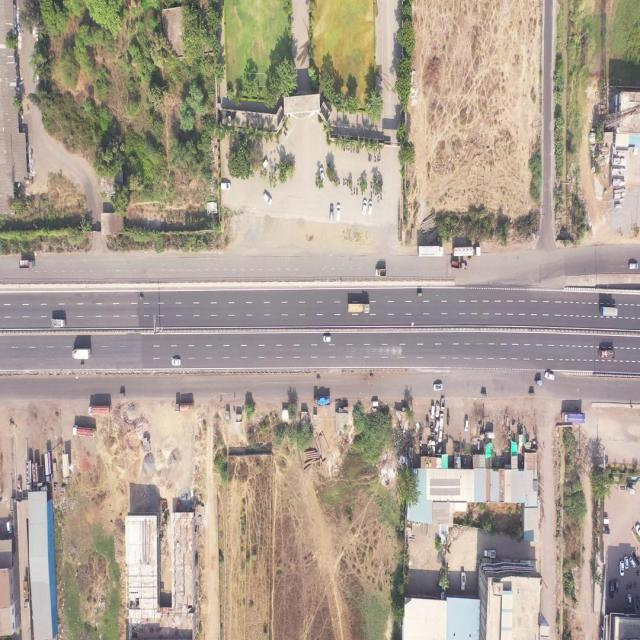3W: (414, 290, 427, 300), (480, 390, 488, 399), (534, 379, 543, 387), (528, 390, 536, 398), (119, 392, 126, 399)
Bus: (416, 243, 446, 258)
Cars: (263, 191, 273, 207), (628, 259, 640, 272), (336, 202, 343, 222), (328, 204, 335, 223), (544, 370, 556, 381), (220, 181, 232, 191), (322, 334, 332, 344), (432, 383, 444, 391), (172, 357, 181, 367), (368, 200, 373, 216), (464, 418, 469, 433), (362, 198, 366, 216)
LCV: (598, 304, 620, 318), (72, 348, 92, 360), (375, 268, 388, 278), (371, 400, 379, 407)
M2W: (368, 374, 374, 381), (138, 295, 144, 301), (316, 376, 322, 382), (81, 362, 85, 368), (468, 257, 472, 262)
MAV: (72, 424, 97, 439), (562, 410, 586, 424), (87, 403, 112, 416), (453, 245, 482, 256)
Truck: (347, 300, 370, 315), (18, 257, 38, 274), (173, 401, 196, 414), (313, 394, 332, 408), (598, 348, 617, 362), (50, 316, 68, 329), (449, 261, 467, 271)
